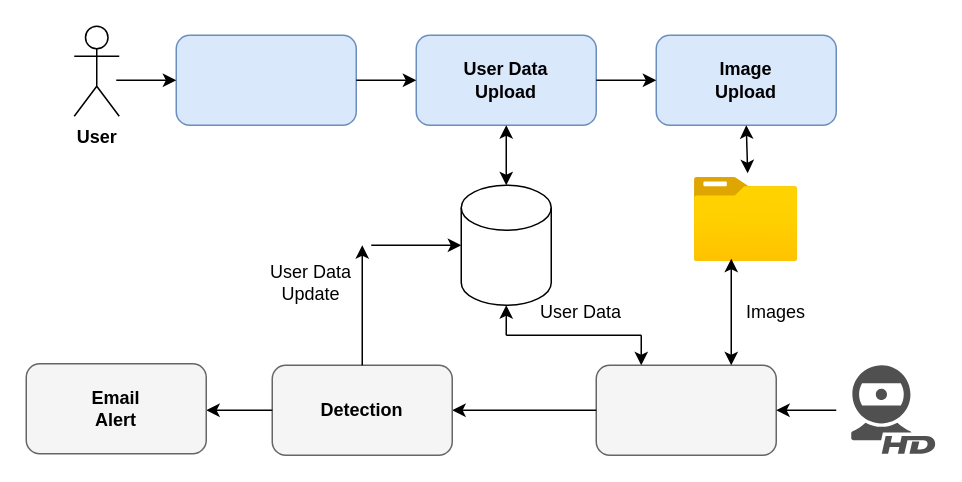
The diagram is 962 pixels wide and 482 high, and some of its shapes have lost their labels. Here are the shapes that lost their labels. From the top down, the centre of each, then its label:
At (x=265, y=79): "Signup/Login".
At (x=685, y=409): "Face Recognition Pipeline".
